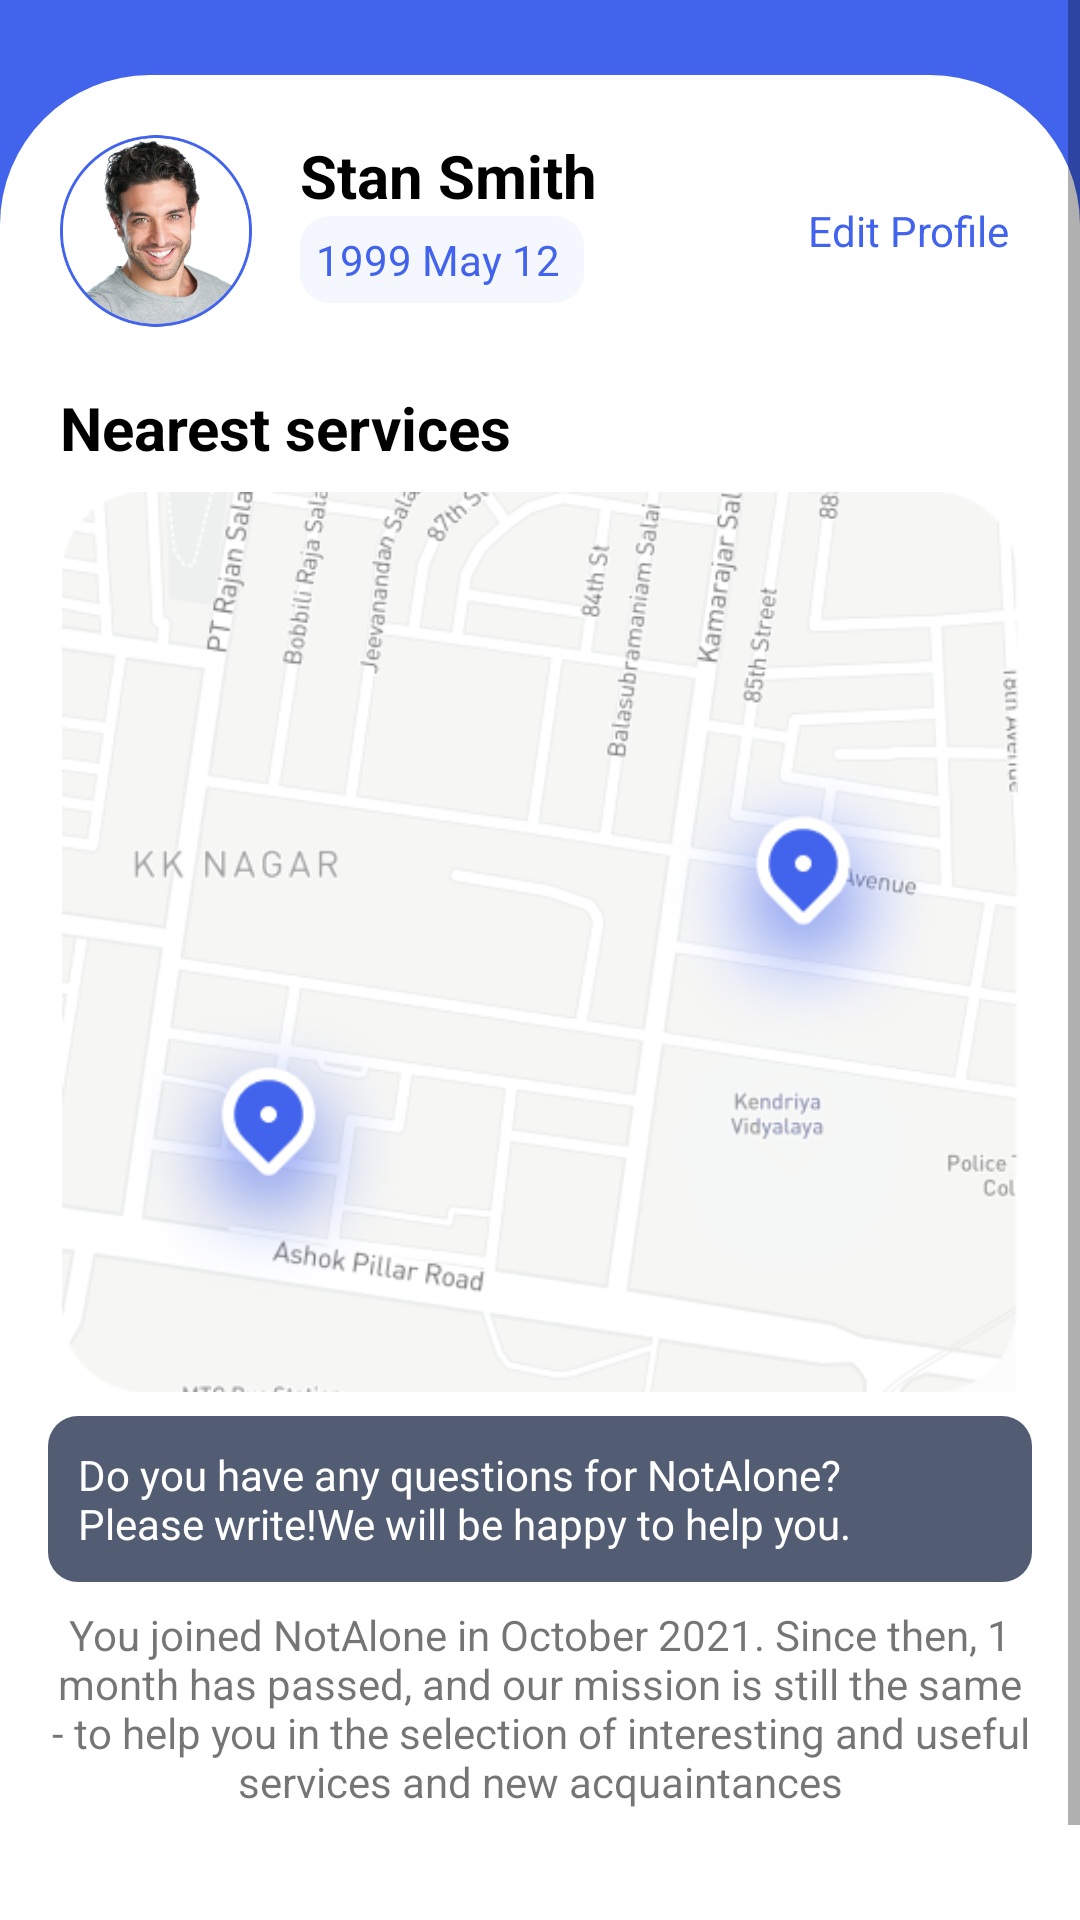

Icon bounding boxes for this 1080 × 1920 phone screenshot, format (x1, y1, x2, y2):
ava: (60, 135, 252, 327)
